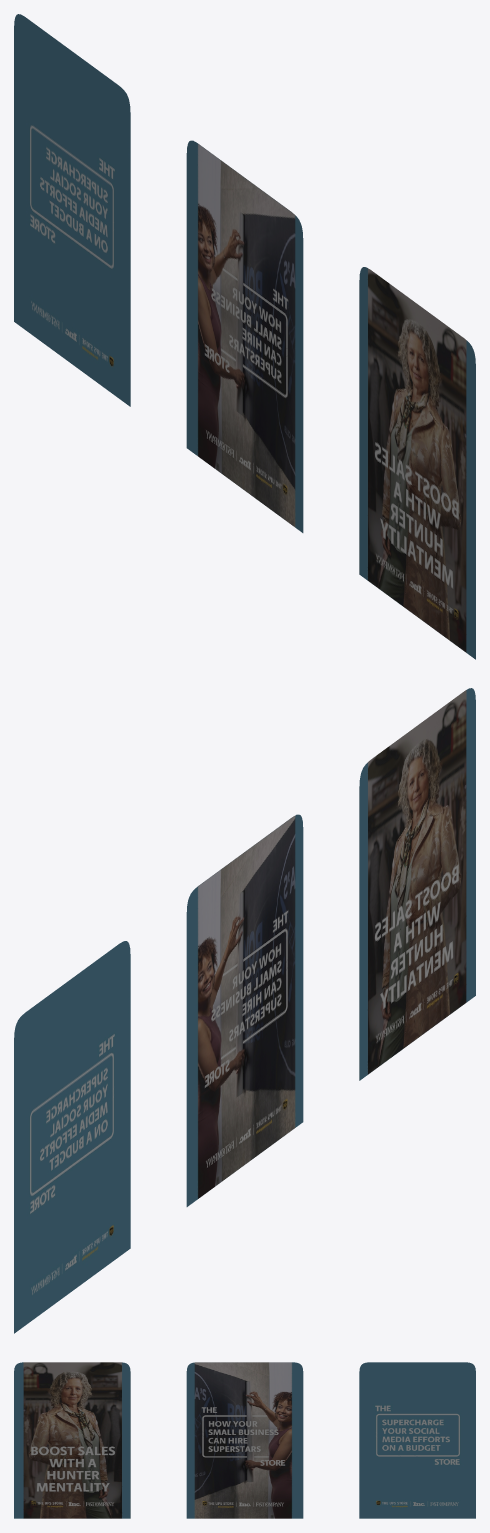
Rendered from UPS_Floor2_Articles2.glb.
The picture shows the model from 3 angles, top to bottom: view 1: azimuth 30°, elevation 25°; view 2: azimuth 150°, elevation 25°; view 3: azimuth 270°, elevation 25°; orthographic projection. The views are drawn at different scales.
Parts seen in each view (by area): view 1: Box1126, Box1124, Box1128; view 2: Box1126, Box1128, Box1124; view 3: Box1126, Box1124, Box1128.
Part boxes in pixels (box(x1,y1,x2,y2)): Box1126: box(186, 140, 303, 532); Box1124: box(14, 14, 130, 406); Box1128: box(359, 267, 475, 659); Box1126: box(186, 814, 303, 1206); Box1128: box(359, 688, 475, 1080); Box1124: box(14, 941, 130, 1333); Box1126: box(186, 1362, 303, 1518); Box1124: box(359, 1362, 475, 1518); Box1128: box(14, 1362, 130, 1518).
Size of the model in its own units: 7.99e-07 by 4 by 10.7.
1 material, 1 textured.
